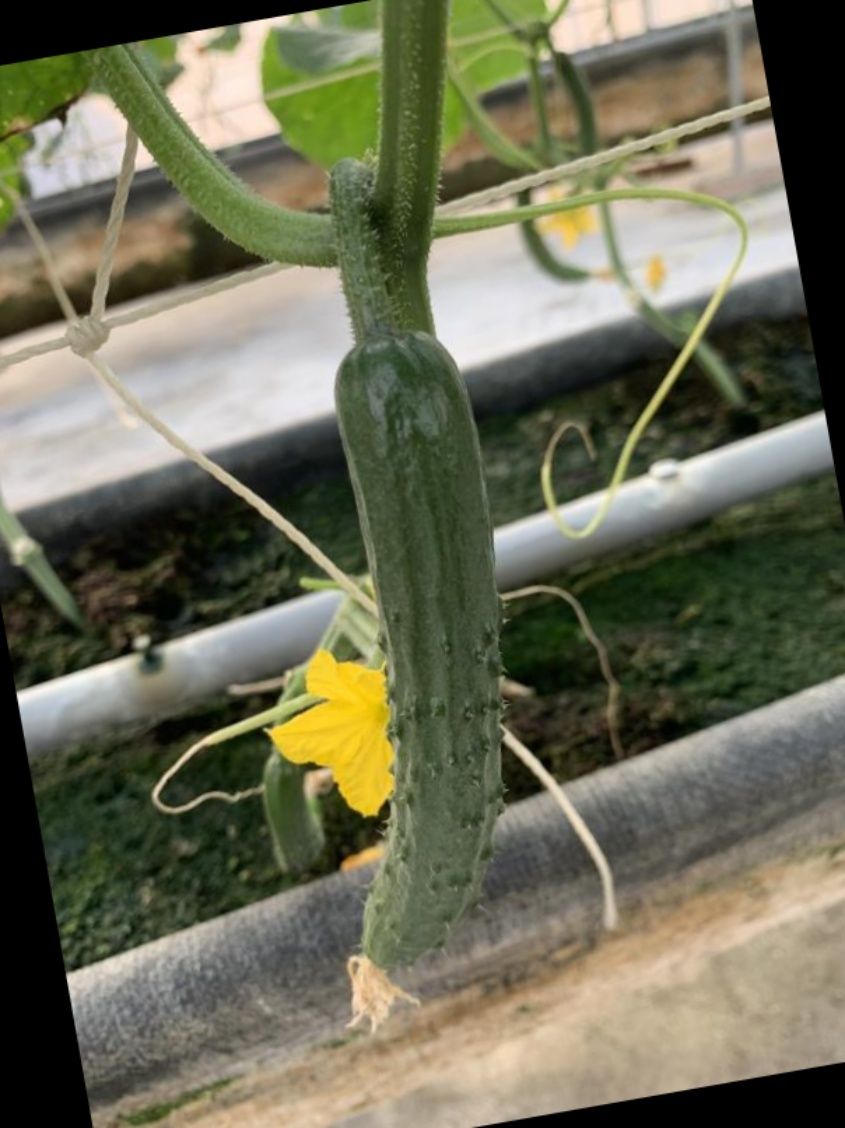growth: (306, 313, 546, 1040)
